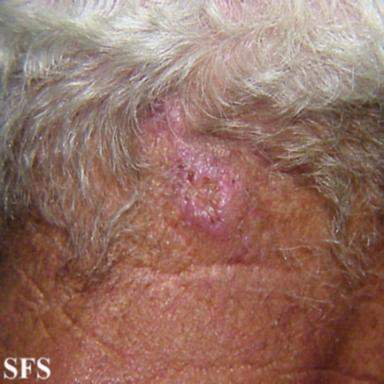basal-cell-carcinoma: (154, 98, 251, 237)
